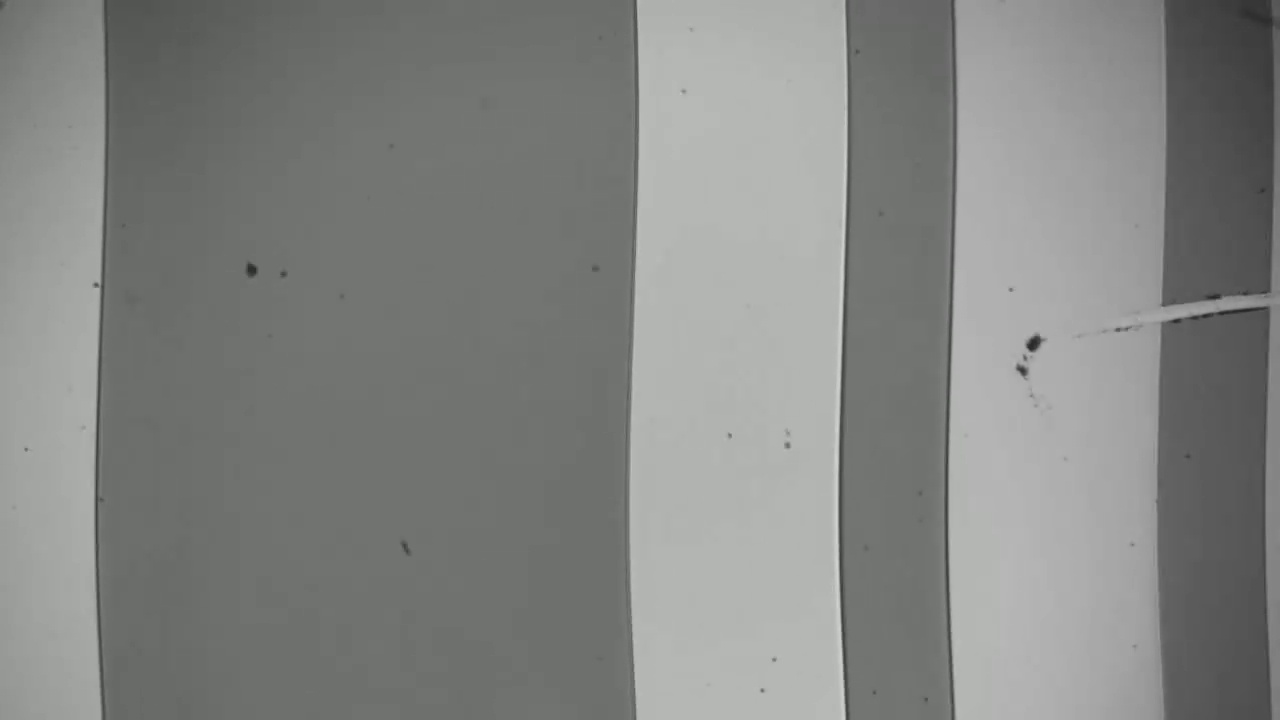Short_circuit: (1121, 267, 1279, 351)
